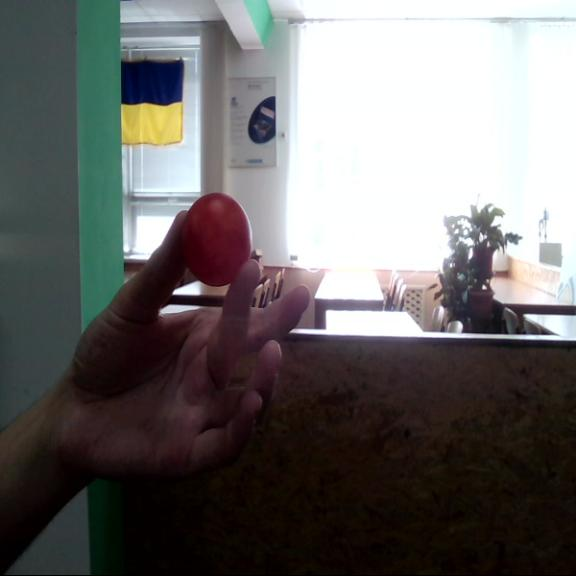ball: (184, 195, 253, 288)
